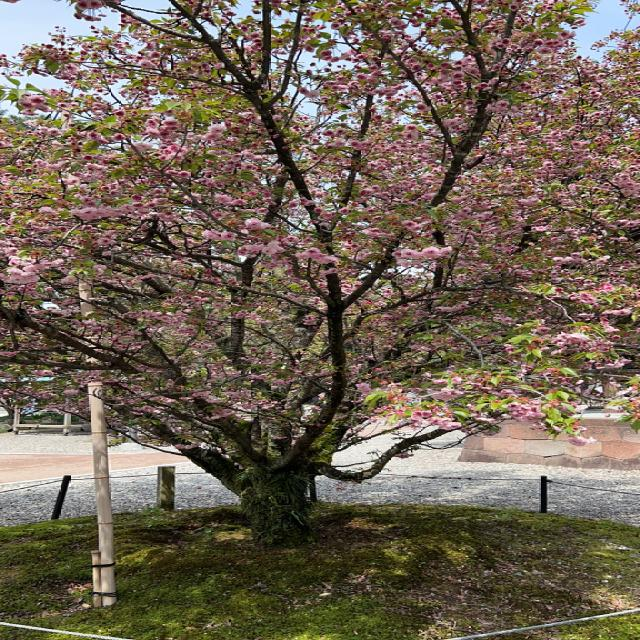sakura: (0, 0, 640, 548)
